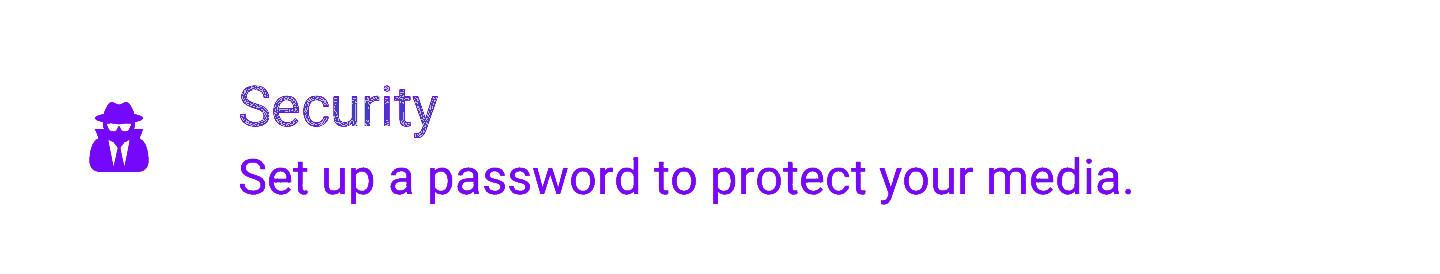CheckedTextView: (1, 1, 1439, 273)
